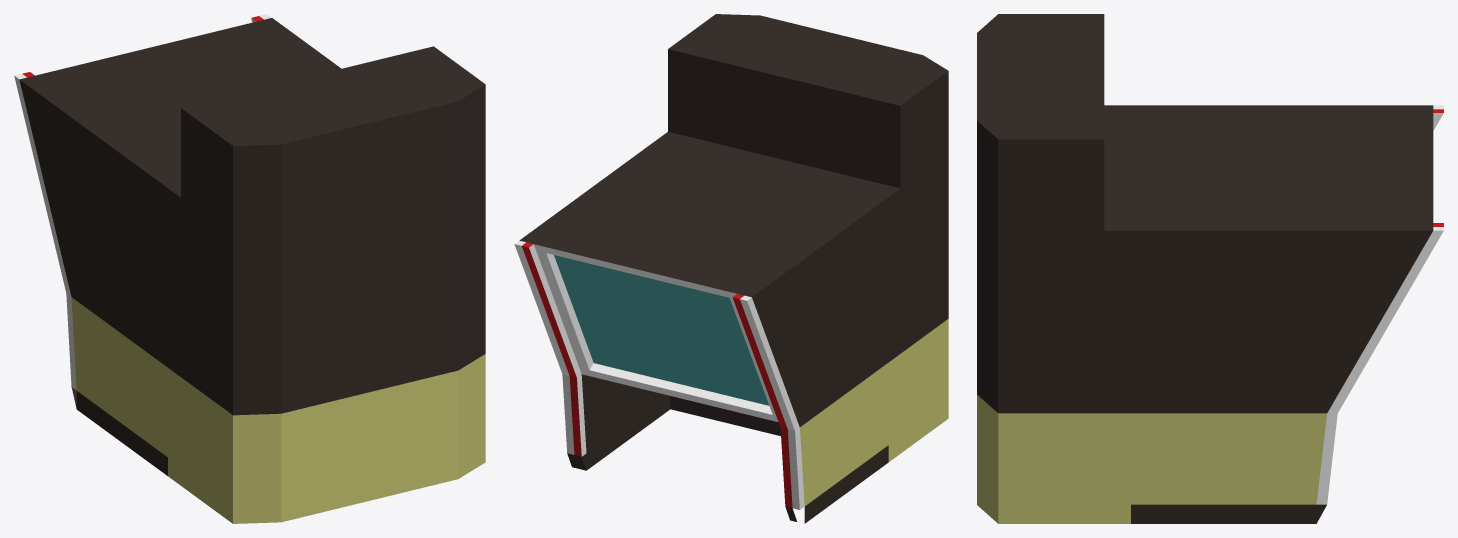
File: Alley End Section Part 2.fbx
The picture shows the model from 3 angles, left to right: view 1: azimuth 30°, elevation 25°; view 2: azimuth 150°, elevation 25°; view 3: azimuth 270°, elevation 25°; orthographic projection. The views are drawn at different scales.
Visible parts, largest first — view 1: Alley End Section Part 2; view 2: Alley End Section Part 2; view 3: Alley End Section Part 2.
Part boxes in pixels (x1=…): Alley End Section Part 2: x1=14, y1=14, x2=485, y2=523; Alley End Section Part 2: x1=514, y1=14, x2=948, y2=523; Alley End Section Part 2: x1=977, y1=14, x2=1443, y2=523.
Bounding box in the file's own units: 2800 × 4000 × 4400.
